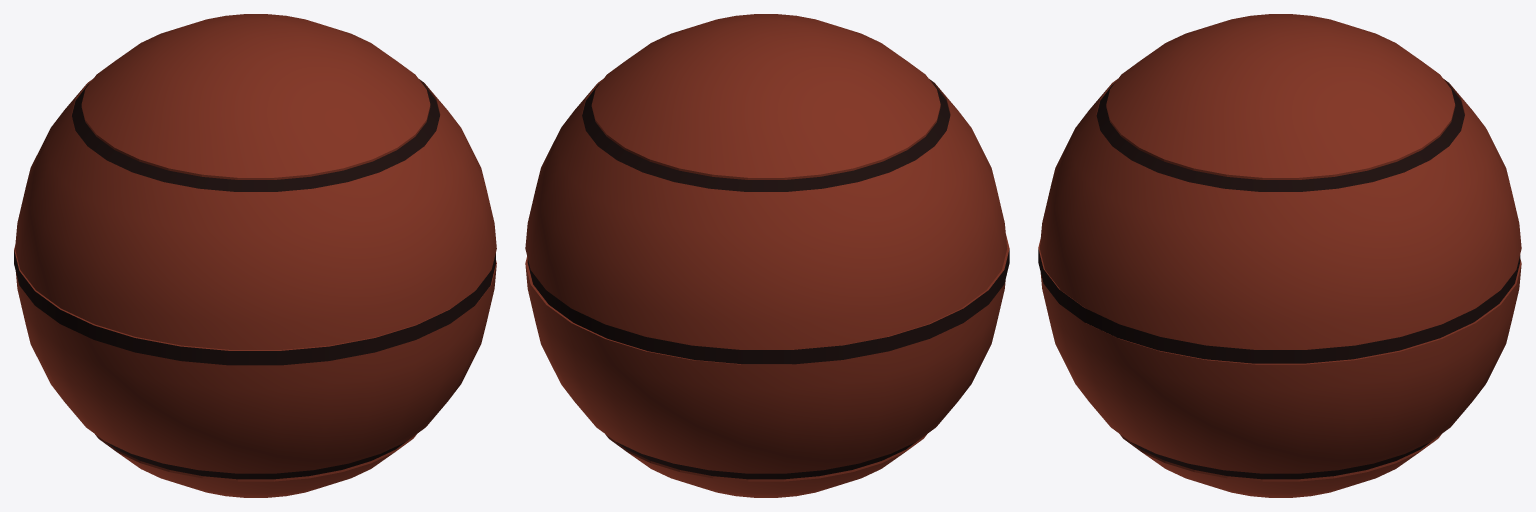
3 renders of one model, left to right at view 1: azimuth 30°, elevation 25°; view 2: azimuth 150°, elevation 25°; view 3: azimuth 270°, elevation 25°, orthographic.
Visible parts, largest first — view 1: Sphere001, 对象001; view 2: Sphere001, 对象001; view 3: Sphere001, 对象001.
Part boxes in pixels (left/top/right/bottom): Sphere001: left=14, top=14, right=496, bottom=497; 对象001: left=14, top=82, right=495, bottom=479; Sphere001: left=525, top=14, right=1009, bottom=497; 对象001: left=527, top=83, right=1009, bottom=479; Sphere001: left=1038, top=14, right=1521, bottom=497; 对象001: left=1038, top=82, right=1520, bottom=479.
Size of the model in its own units: 80.14 by 80.5 by 80.69.
